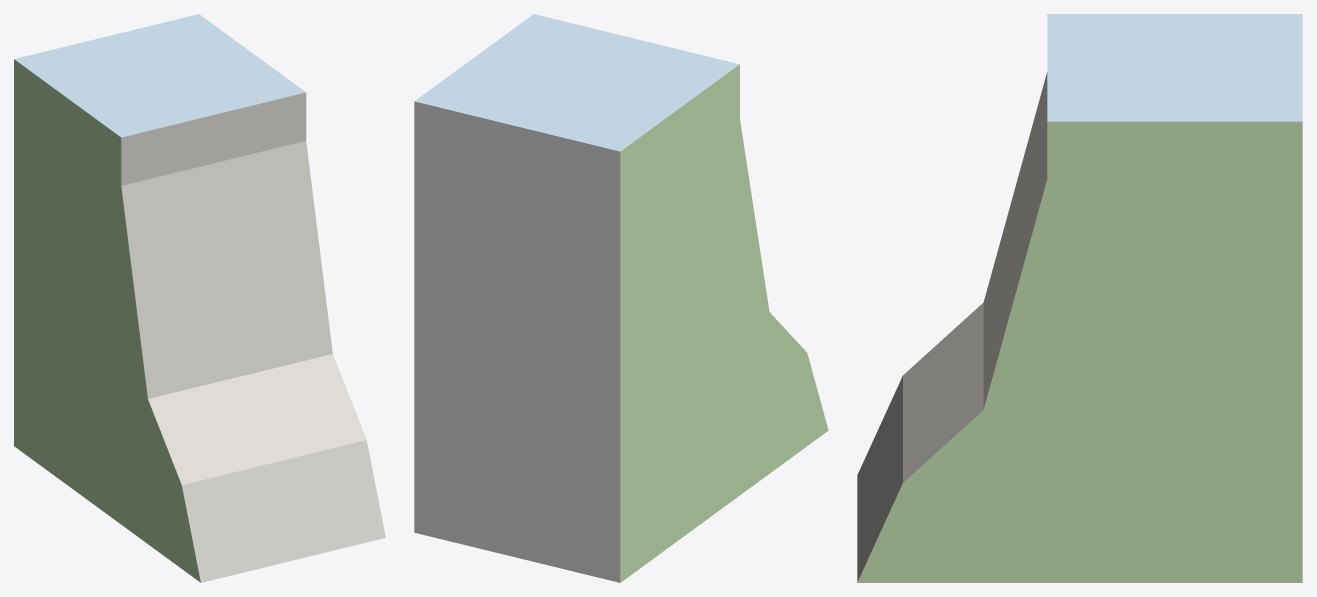
The model's file is Wall_Straight_Basic_1x2_Base.fbx.
The picture shows the model from 3 angles, left to right: view 1: azimuth 30°, elevation 25°; view 2: azimuth 150°, elevation 25°; view 3: azimuth 270°, elevation 25°; orthographic projection. The views are drawn at different scales.
Parts seen in each view (by area): view 1: Wall_Straight_Basic_1x2_Base; view 2: Wall_Straight_Basic_1x2_Base; view 3: Wall_Straight_Basic_1x2_Base.
Part boxes in pixels (<box>): Wall_Straight_Basic_1x2_Base: <box>14,14,385,582</box>; Wall_Straight_Basic_1x2_Base: <box>414,14,828,582</box>; Wall_Straight_Basic_1x2_Base: <box>857,14,1302,582</box>.
Bounding box in the file's own units: 100 × 200 × 175.
